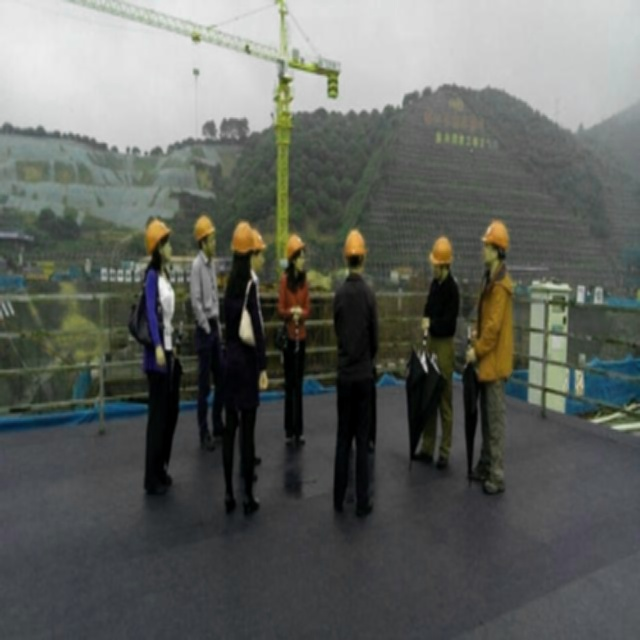Con_Casco: (482, 219, 508, 266), (342, 227, 365, 274), (430, 235, 452, 277), (285, 234, 307, 274)
